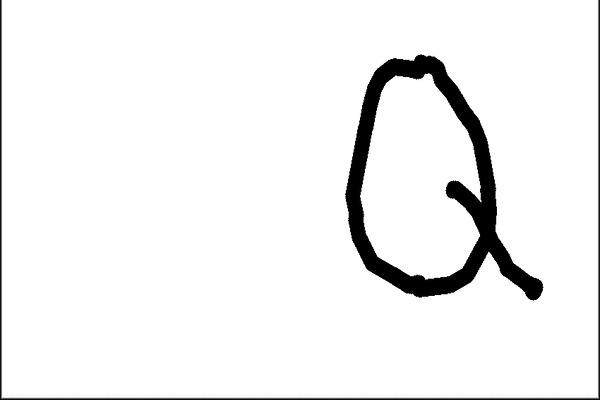Q: (340, 40, 547, 310)
